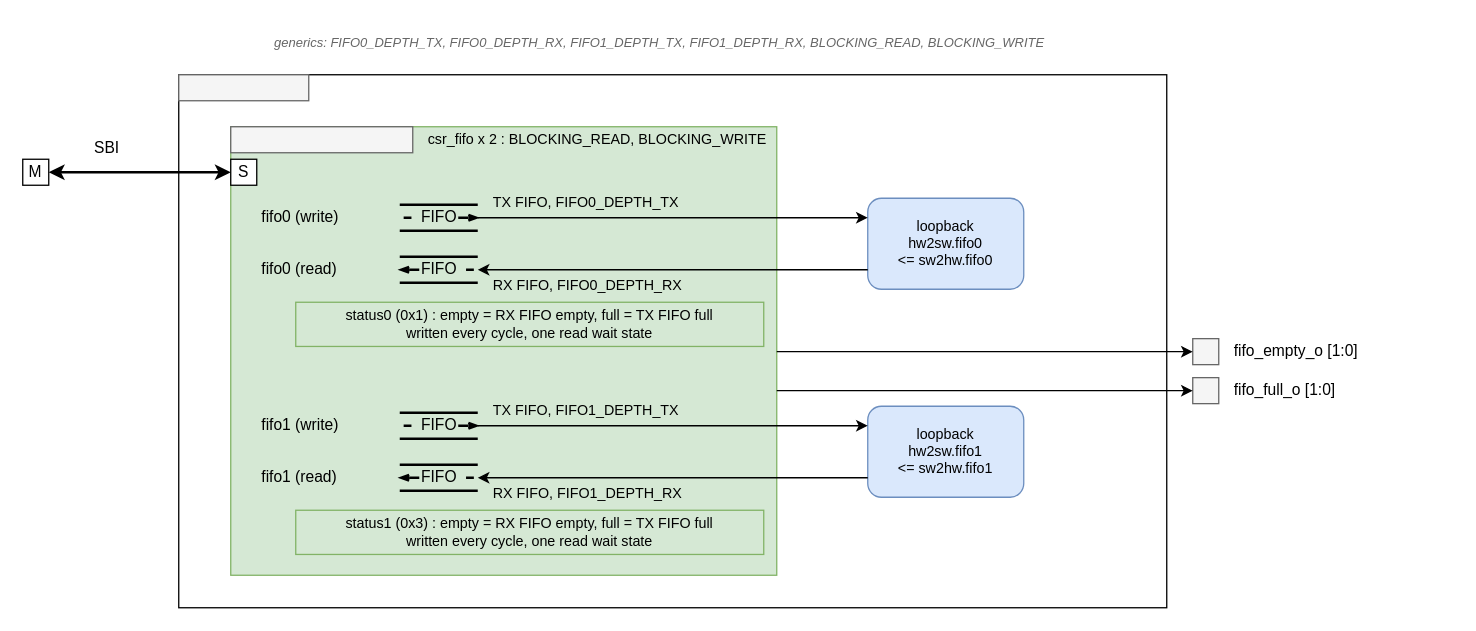
Some shapes in this 1476 by 631 pixel diagram are drawn without their labels. The centre of each missing label's shape, as x and y in pixels:
"mailbox_registers" belongs at point (321, 139).
"sbi_mailbox" belongs at point (243, 87).
